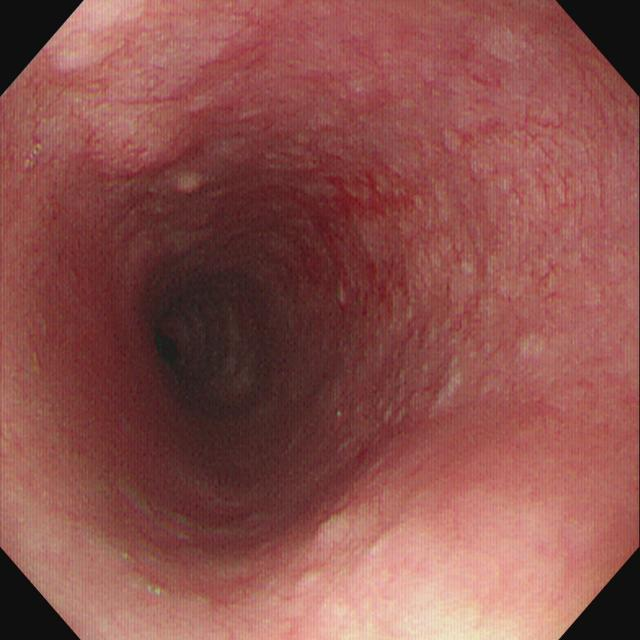D: (315, 175, 419, 327)
E: (146, 319, 194, 370)
